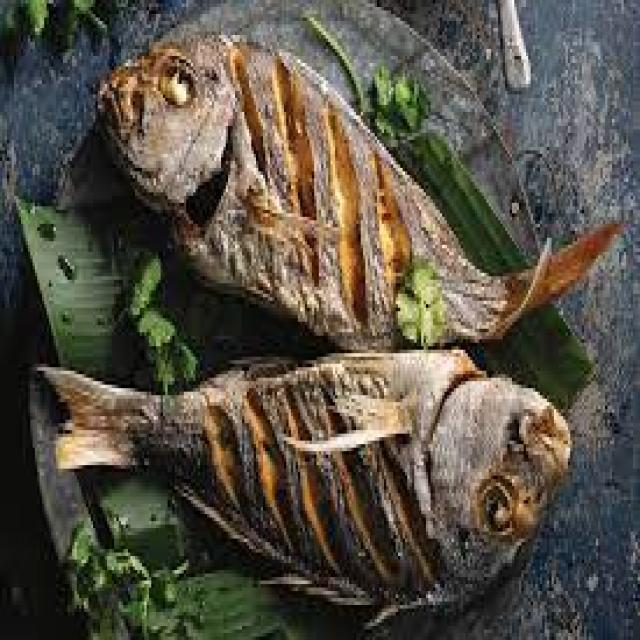Peixe: (38, 24, 614, 616), (32, 342, 572, 608), (93, 25, 412, 346)
